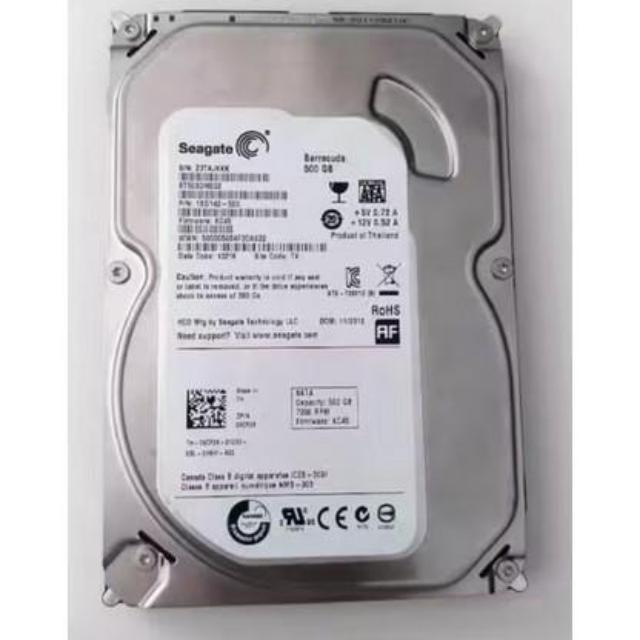DISK: (98, 0, 540, 603)
